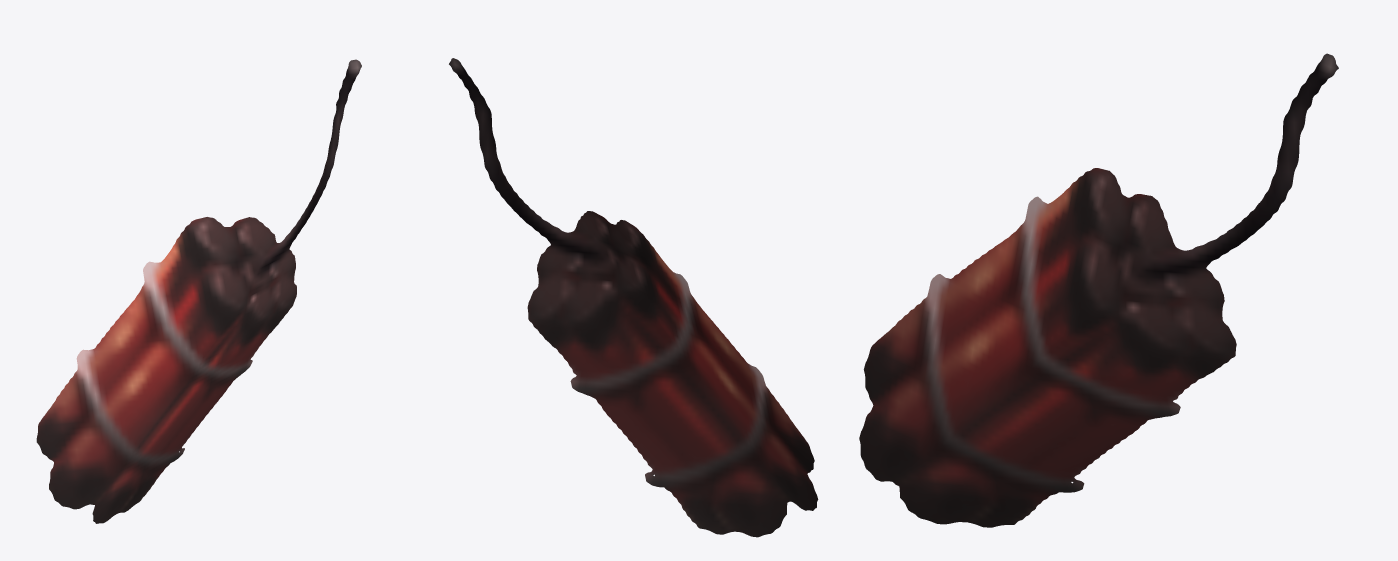
File: TNT.FBX
The picture shows the model from 3 angles, left to right: view 1: azimuth 30°, elevation 25°; view 2: azimuth 150°, elevation 25°; view 3: azimuth 330°, elevation 25°; orthographic projection. The views are drawn at different scales.
Visible parts, largest first — view 1: TNT; view 2: TNT; view 3: TNT.
Part boxes in pixels (x1,y1,x2,y2): TNT: (36,59,361,523); TNT: (449,58,818,537); TNT: (859,53,1338,527).
Size of the model in its own units: 127 by 16.35 by 142.
